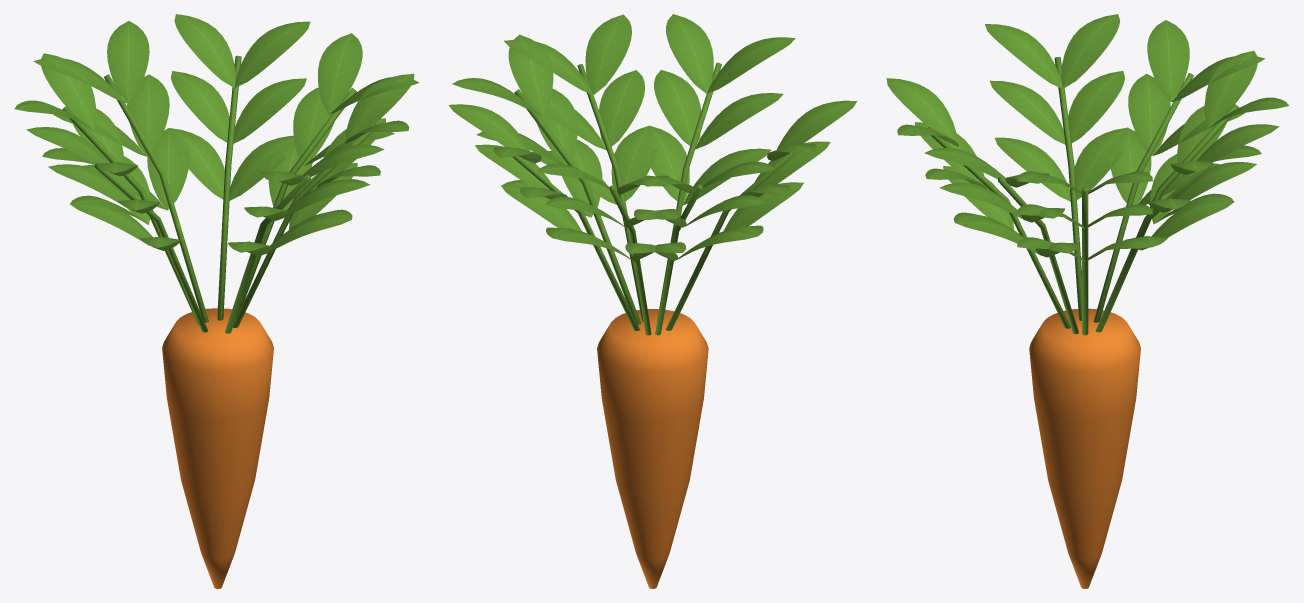
The model's file is crop-carrot-ripe.glb.
The picture shows the model from 3 angles, left to right: view 1: azimuth 30°, elevation 25°; view 2: azimuth 150°, elevation 25°; view 3: azimuth 270°, elevation 25°; orthographic projection.
Visible parts, largest first — view 1: crop_carrot_ripe; view 2: crop_carrot_ripe; view 3: crop_carrot_ripe.
Part boxes in pixels (<box>): crop_carrot_ripe: <box>14,14,419,588</box>; crop_carrot_ripe: <box>449,14,857,588</box>; crop_carrot_ripe: <box>886,14,1288,588</box>.
Size of the model in its own units: 0.5103 by 0.6835 by 0.5117.
3 materials, 2 textured.
